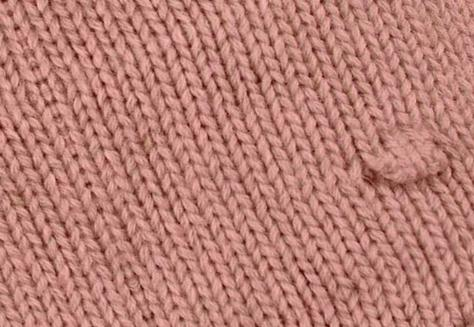knot: (350, 131, 452, 189)
